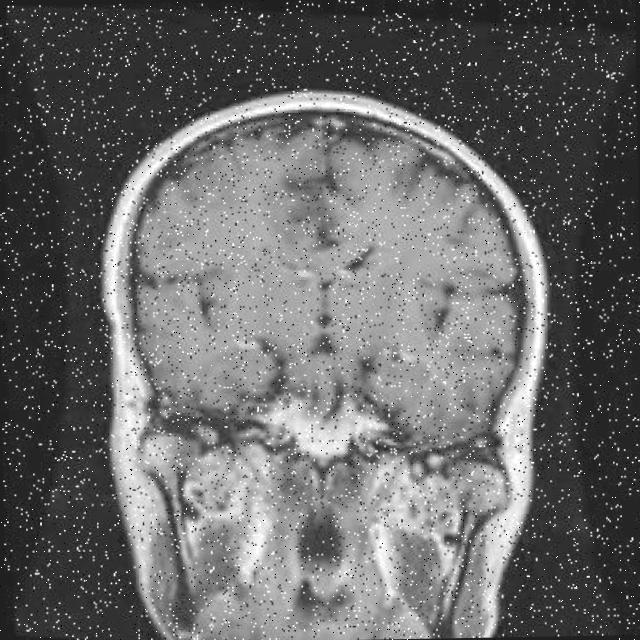EMCI: (246, 155, 346, 262)
